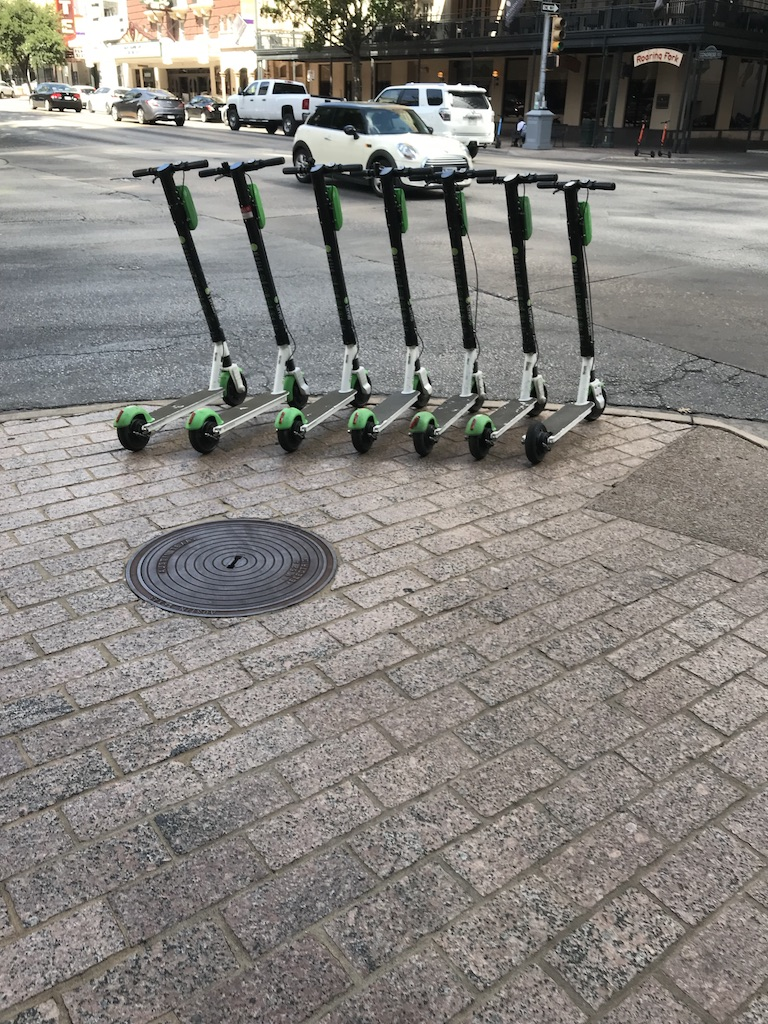scooter: (115, 160, 250, 453), (185, 155, 310, 457), (274, 159, 375, 452), (522, 180, 618, 466), (465, 172, 559, 461), (408, 168, 496, 459), (349, 162, 434, 457)
